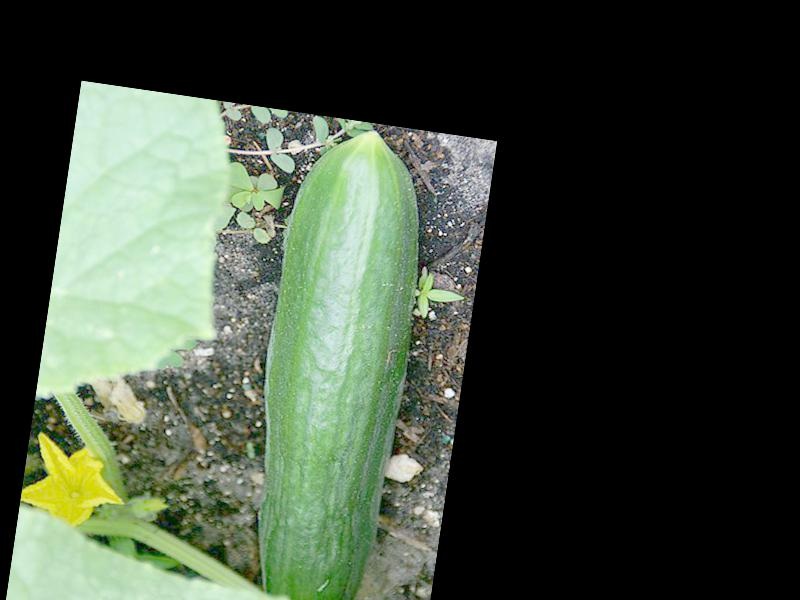Cucumber: (229, 119, 440, 600)
